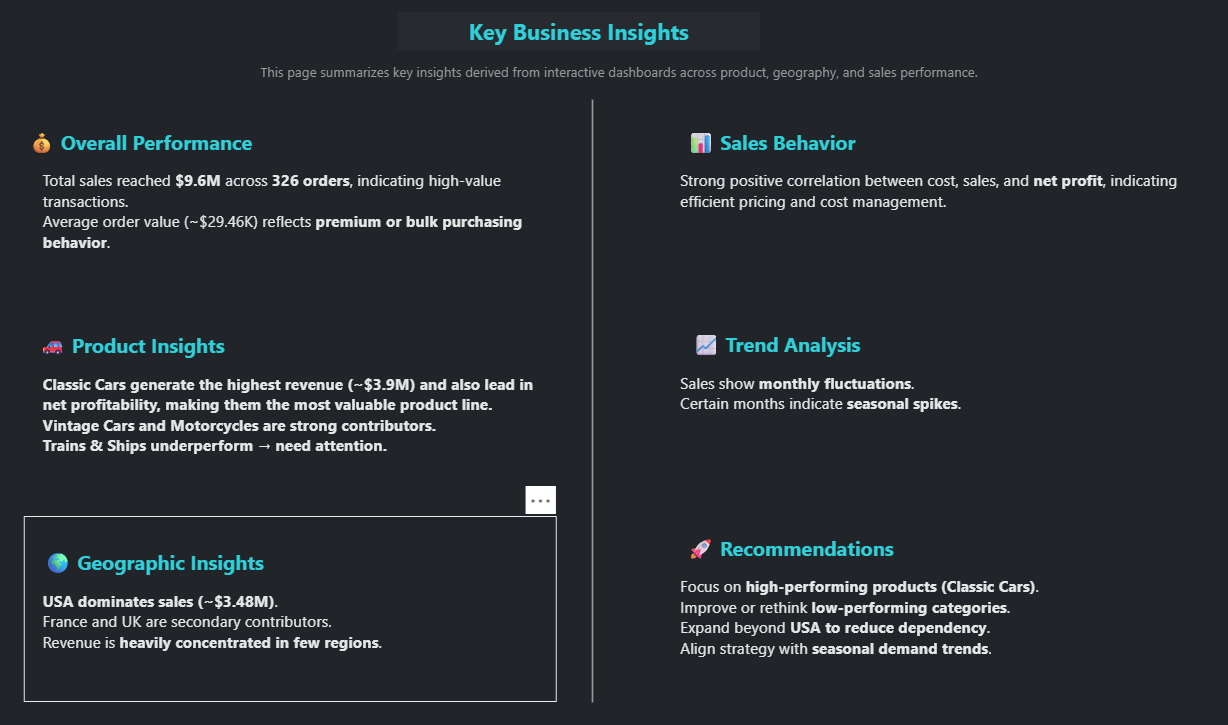

The page's visual inventory and layout, read from the dashboard file:
{"tool":"powerbi","page":{"name":"Business Insights & Recommendations","canvas":[1500,900],"ordinal":2},"visuals":[{"type":"textbox","box":[485.6,25.6,437.3,45.2],"z":0},{"type":"textbox","box":[34.7,143.4,642.4,224],"z":1000},{"type":"textbox","box":[34.7,388.5,642.4,224],"z":2000},{"type":"textbox","box":[34.7,633.6,642.4,224],"z":3000},{"type":"textbox","box":[803.8,143.1,642.4,224.7],"z":4000},{"type":"textbox","box":[803.8,388.1,642.4,224.7],"z":5000},{"type":"textbox","box":[803.8,633.2,642.4,224.7],"z":6000},{"type":"shape","box":[692.2,131.2,57.3,726.9],"z":7000},{"type":"textbox","box":[315.2,81.4,932,33.2],"z":8000}]}

Visuals, with their boxes in screenshot pixels (x1, y1, x2, y2), scaled from the page's 1500x900 canvas onto the 1228x725 screenshot:
textbox: detection(398, 21, 756, 57)
textbox: detection(28, 116, 554, 296)
textbox: detection(28, 313, 554, 493)
textbox: detection(28, 510, 554, 691)
textbox: detection(658, 115, 1184, 296)
textbox: detection(658, 313, 1184, 494)
textbox: detection(658, 510, 1184, 691)
shape: detection(567, 106, 614, 691)
textbox: detection(258, 66, 1021, 92)
